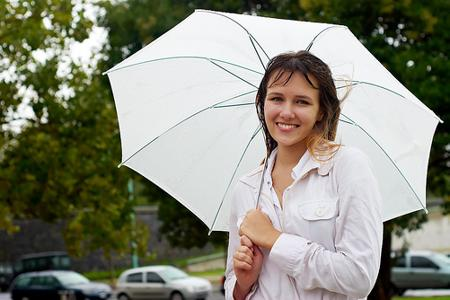person: (223, 51, 384, 300)
